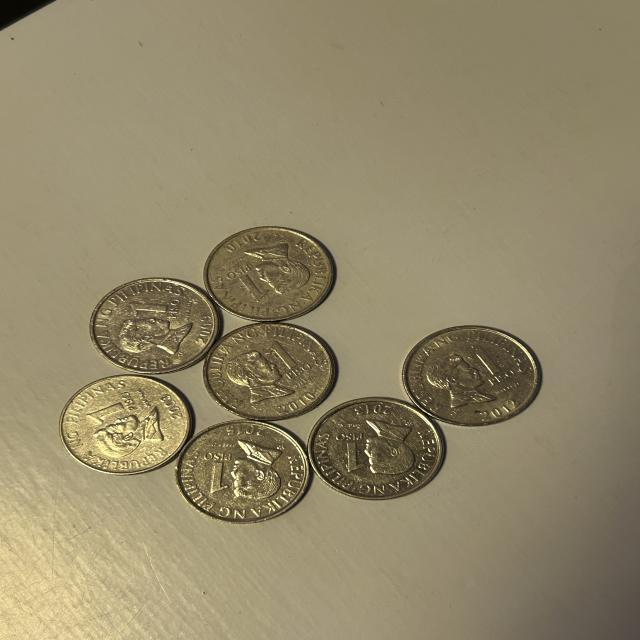1_Old_Front: (258, 334, 307, 388), (461, 344, 518, 389), (219, 262, 269, 305), (85, 391, 142, 426), (197, 445, 237, 494), (122, 294, 181, 327), (328, 434, 370, 476)
